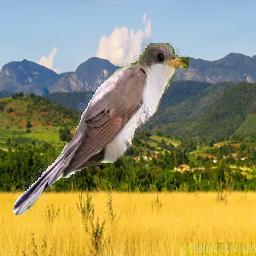Cuckoo: (13, 44, 189, 217)
